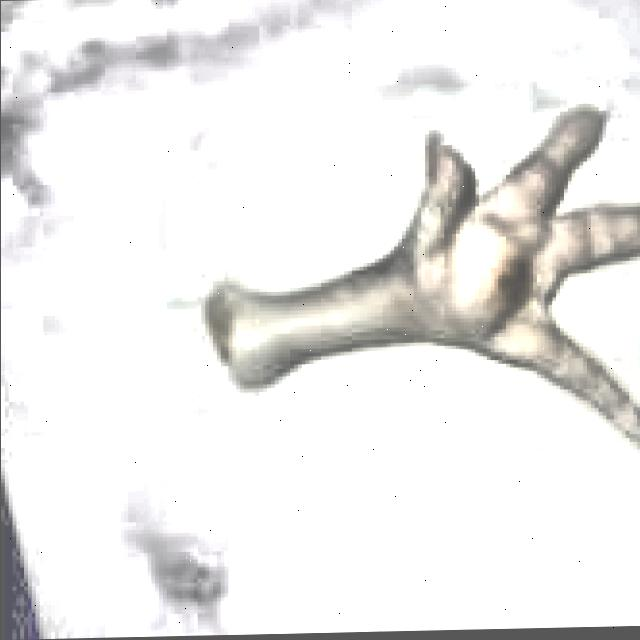Bumble foot: (200, 108, 640, 475)
